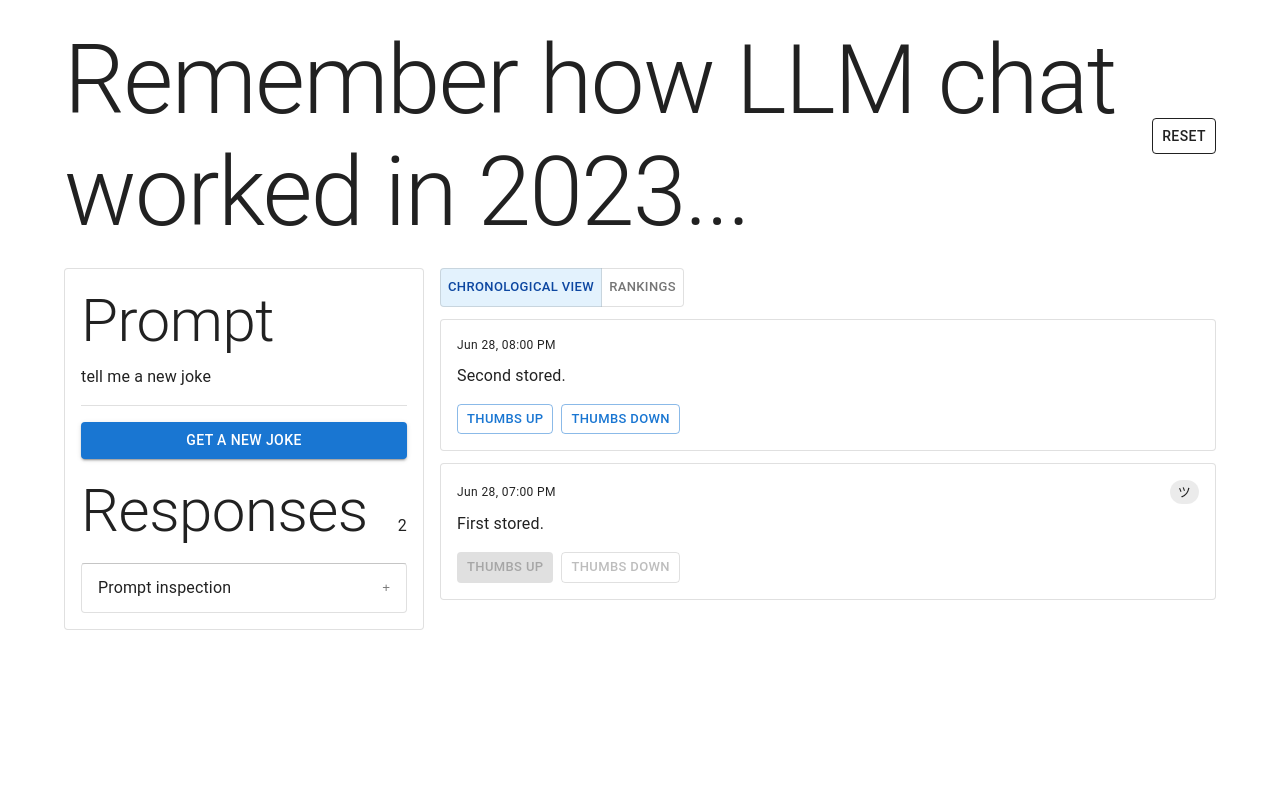
Test: Joker MVP › confirms before clearing stored jokes and priority ordering
Step 1. Click the button "Reset" → click(1184, 136), box [1152,118,1216,154]
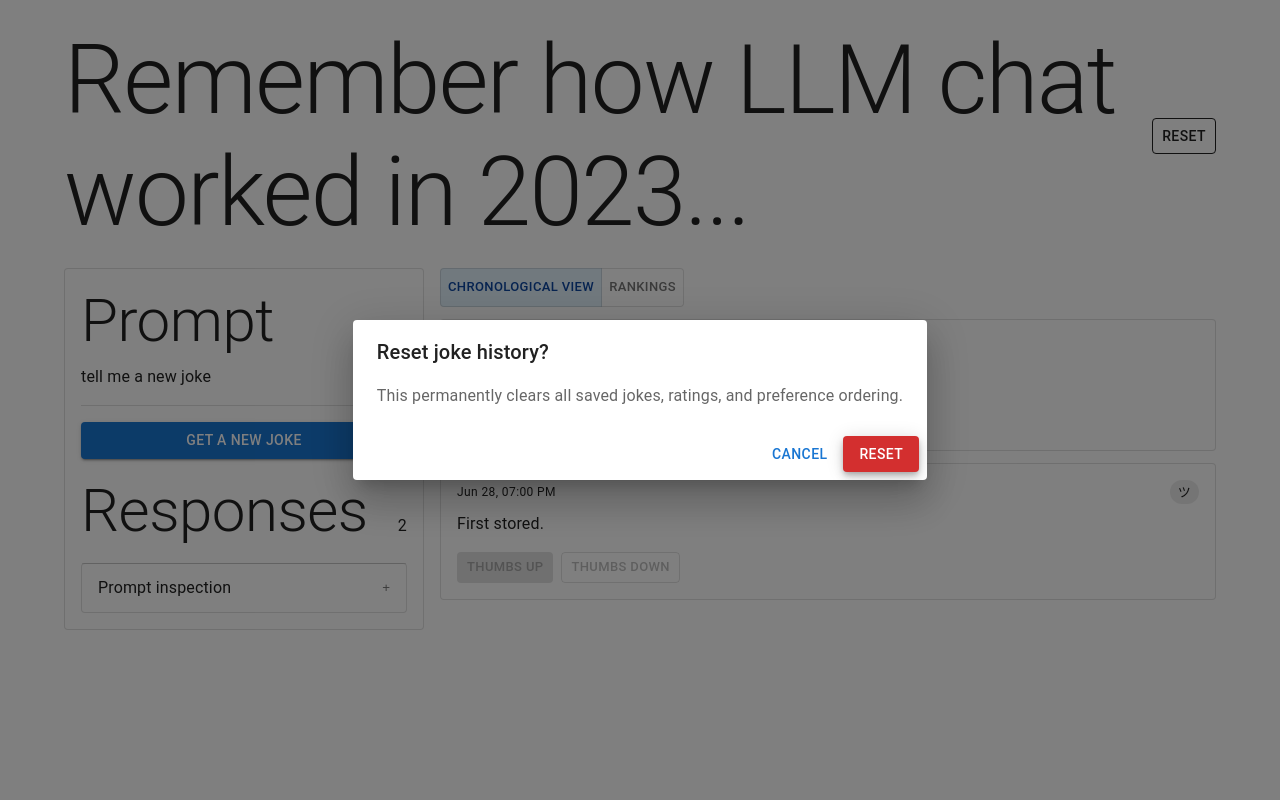
Expected: the text "First stored." is shown, [457,514,544,534]
Expected: the dialog shows "Reset joke history?", [377,340,549,364]
Step 2. Click the button "Reset" → click(881, 454), box [844,436,919,472]
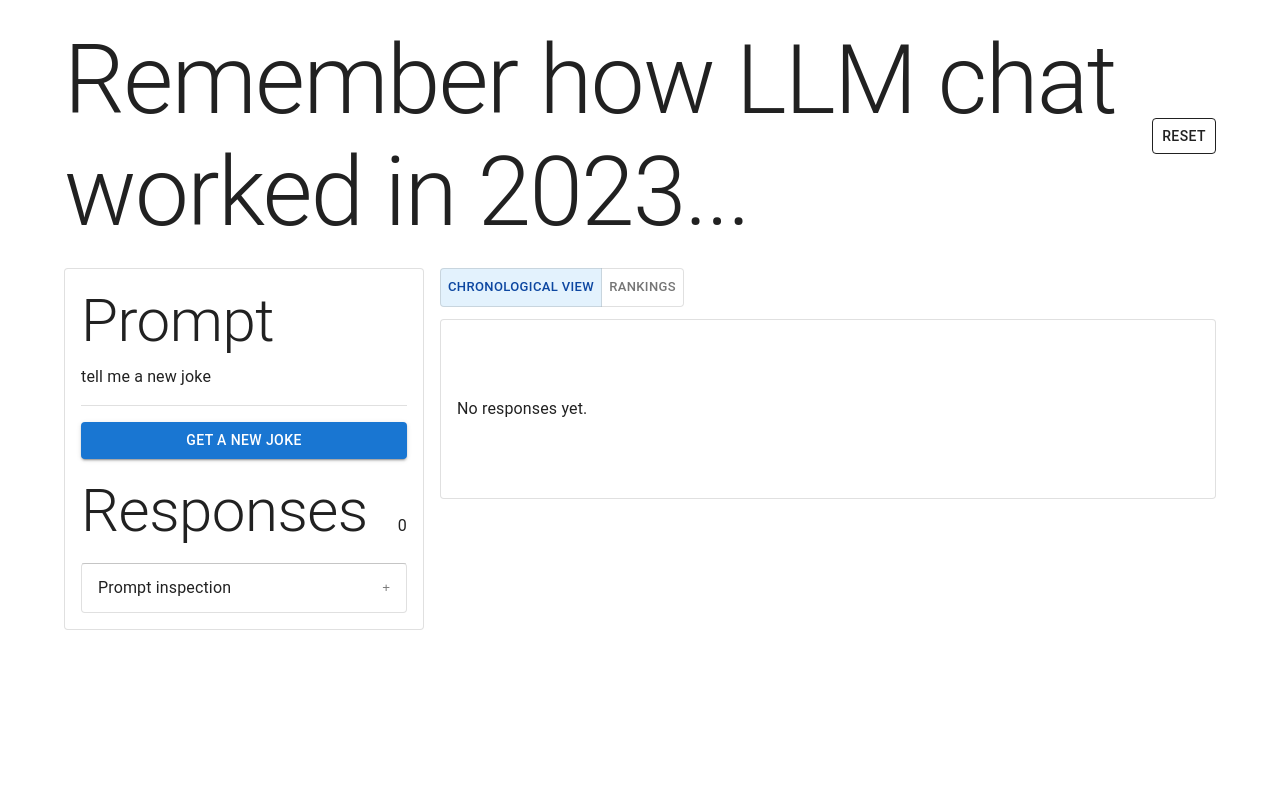
Expected: the text "No responses yet." is shown, [457,397,587,421]
